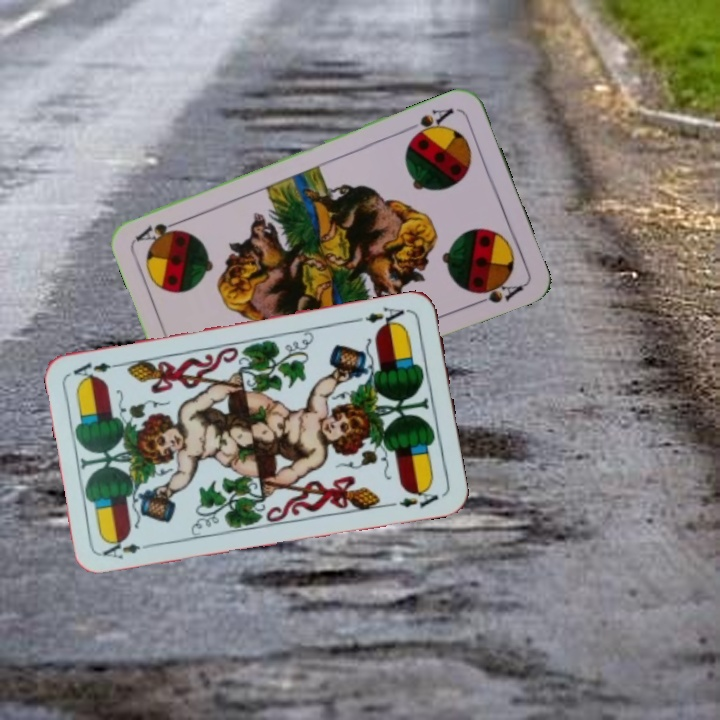EA: (98, 534, 157, 562), (361, 302, 412, 331)
SA: (406, 104, 457, 142)
